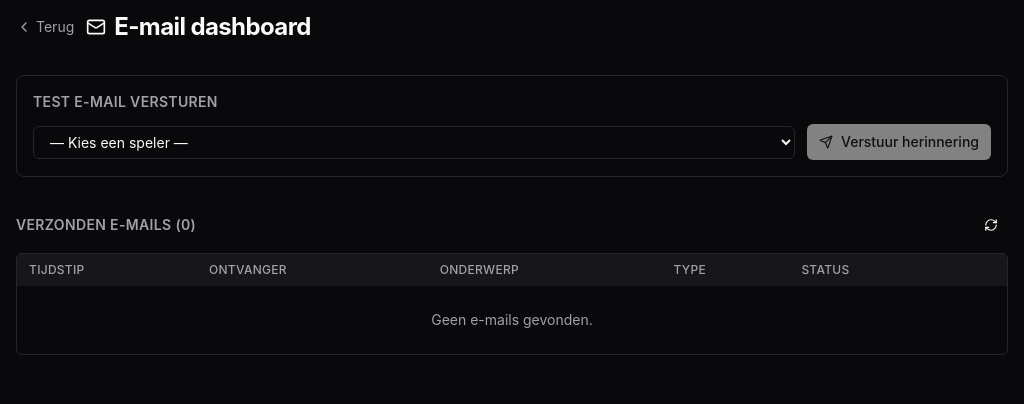
Test: AdminEmailsPage › shows success message after sending
Select "Bob (bob@test.com)" in the dropdown with test id "user-select" at (414, 142), box [33,126,795,158]
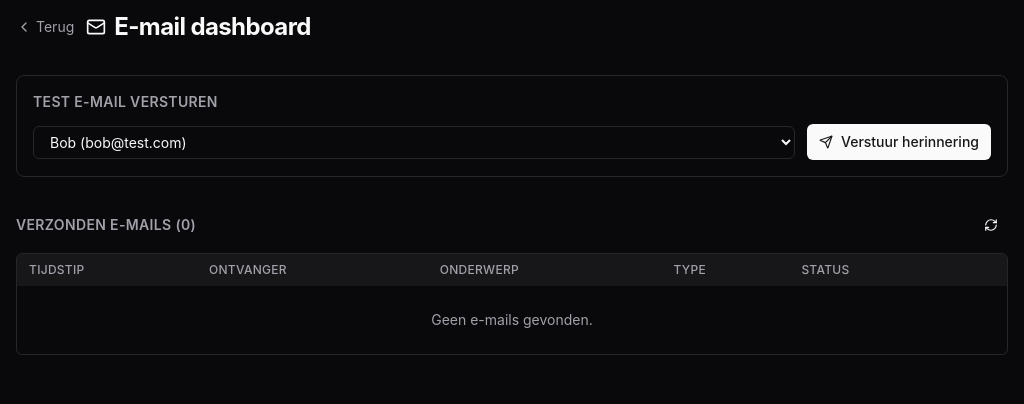
Click the button with test id "send-reminder-btn" at (899, 142), box [807,124,991,160]
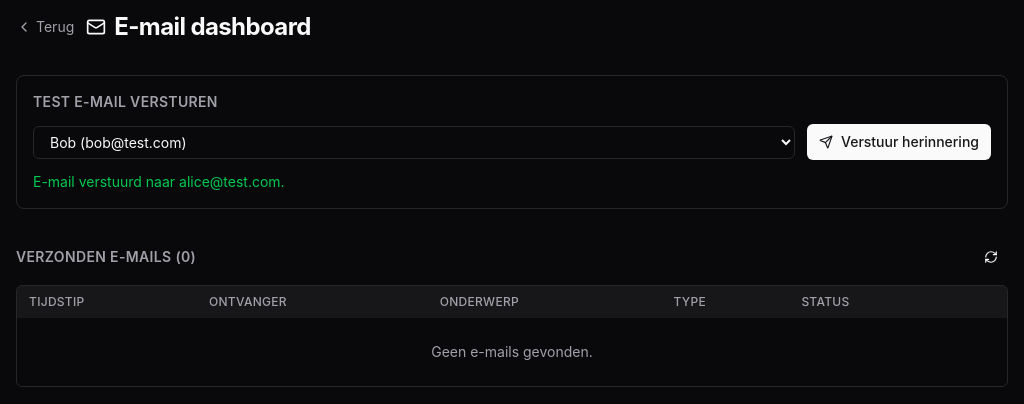
Expected: the text "E-mail verstuurd naar alice@test.com." is shown, [33,173,285,190]
Expected: the text with test id "send-success" shows "alice@test.com", [179,173,281,190]
